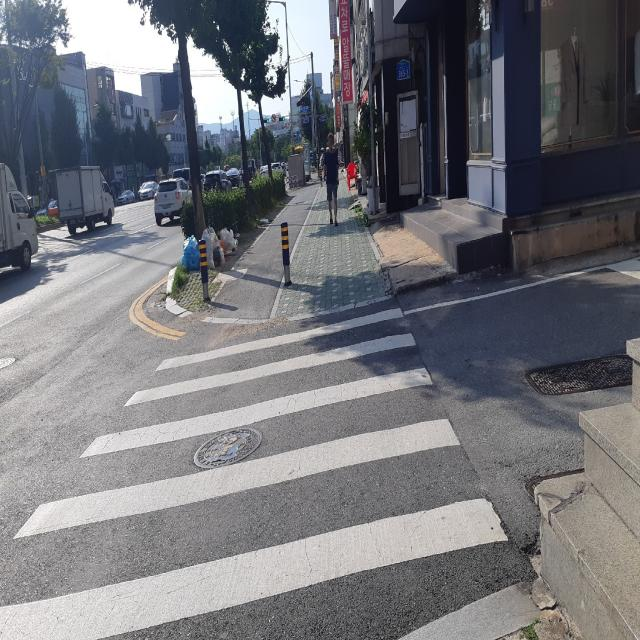횡단보도: (0, 308, 509, 640)
